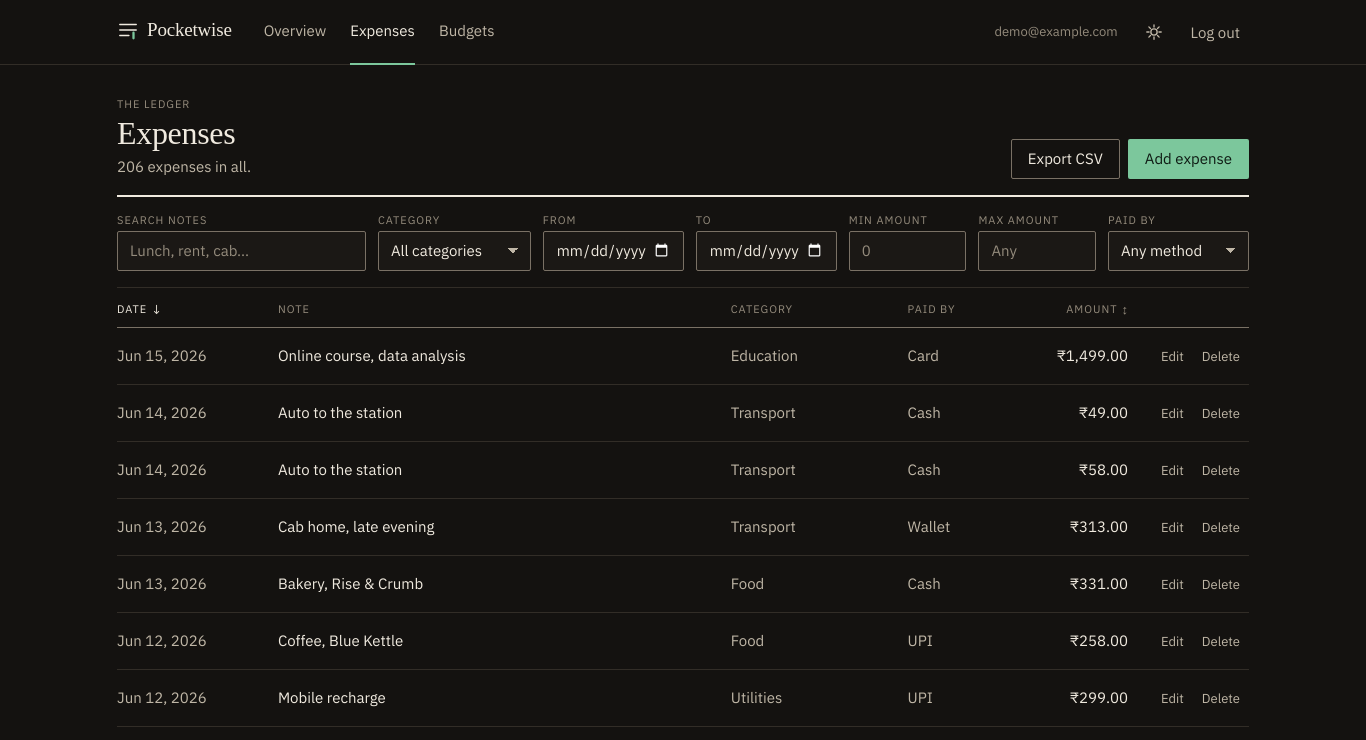
expense list › sorts by amount when the column header is pressed
Click the button "Amount ↕" at (1097, 310), box 1066,300 -> 1128,319
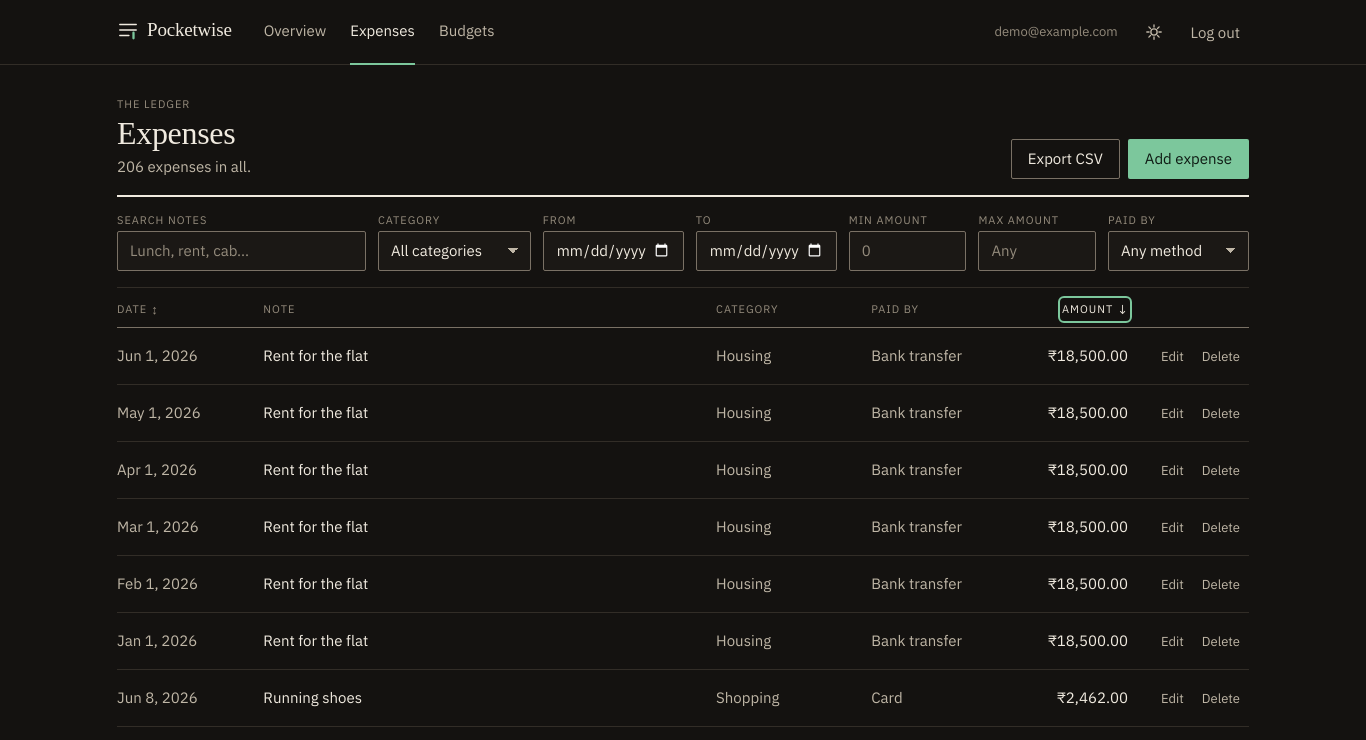
Check: the row that starts with "Jun 1, 2026" shows "Rent for the flat", box 263,346 -> 368,365
